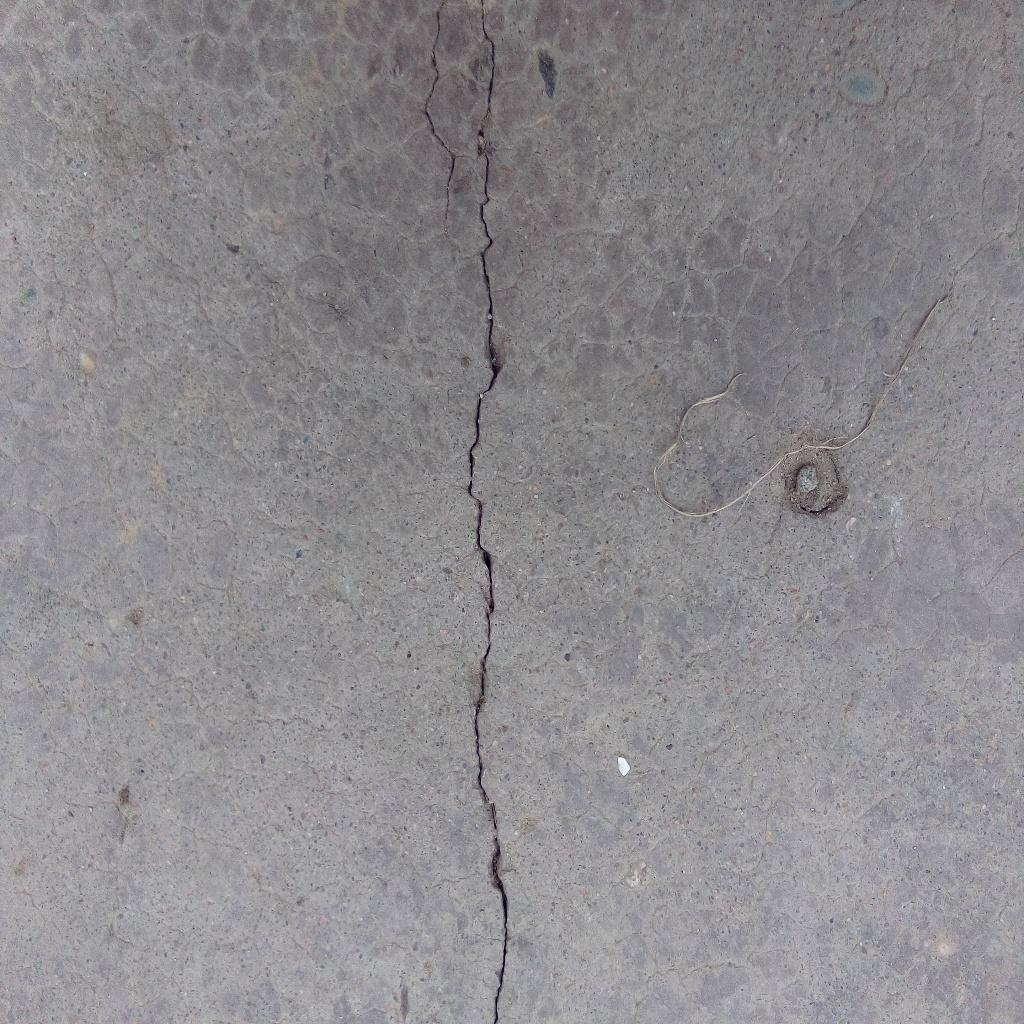Crack: (468, 1, 509, 1024), (422, 1, 457, 221)
Spalling: (778, 430, 848, 518)
